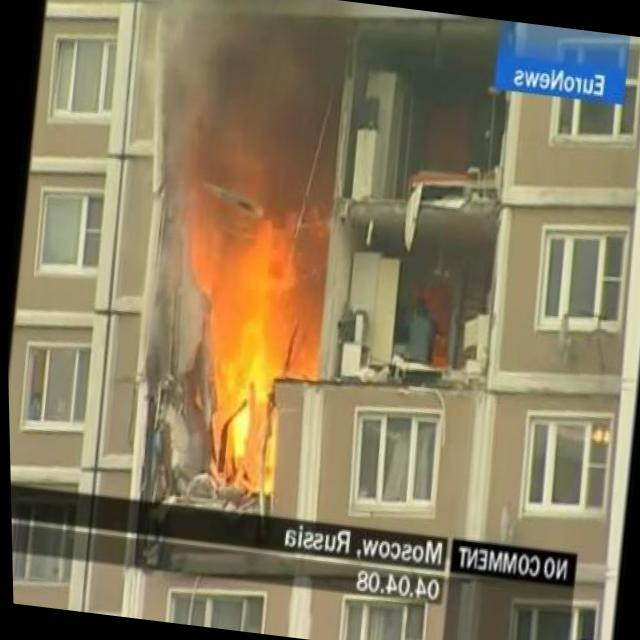fire: (194, 188, 306, 486)
